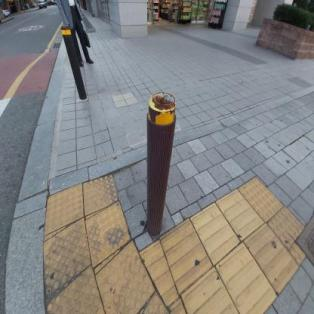Podoctatil: (32, 167, 309, 314)
